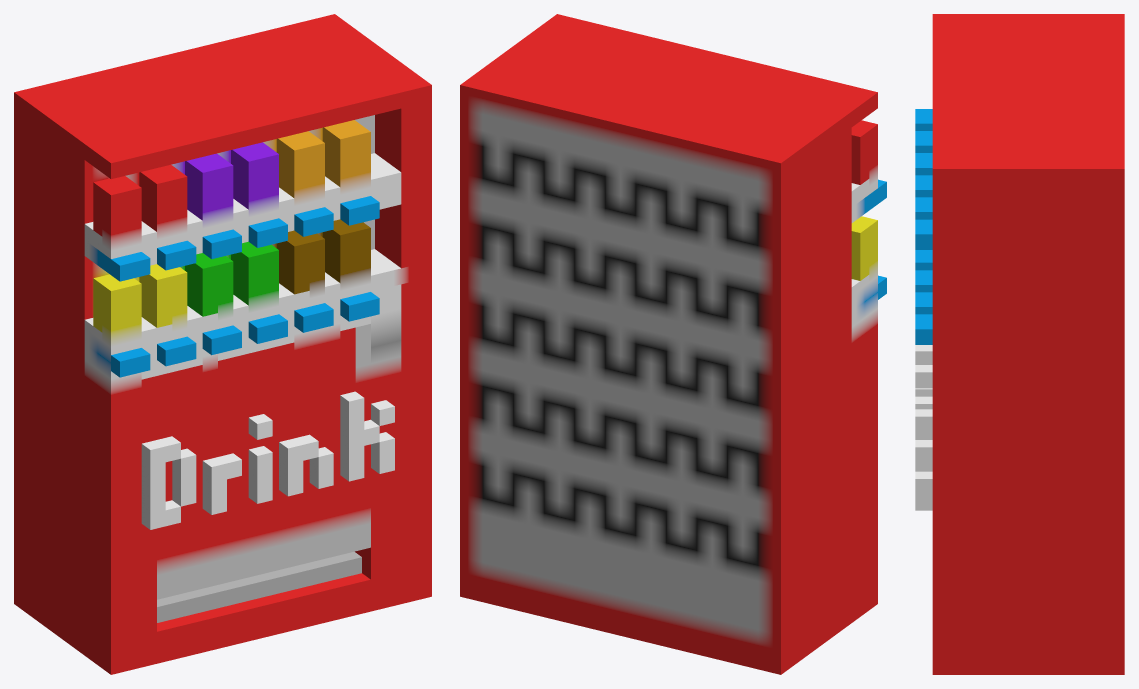
Rendered from SodaMachine.dae.
3 views of the same model, side by side, from view 1: azimuth 30°, elevation 25°; view 2: azimuth 150°, elevation 25°; view 3: azimuth 270°, elevation 25° (orthographic).
Visible parts, largest first — view 1: Week05_Env02; view 2: Week05_Env02; view 3: Week05_Env02.
Boxes of the visible parts, x1,y1,x2,y2 form: Week05_Env02: (14, 14, 431, 674); Week05_Env02: (460, 14, 886, 674); Week05_Env02: (915, 14, 1124, 674).
Size of the model in its own units: 21 by 32 by 12.
Materials: 1 (1 with a texture image).
